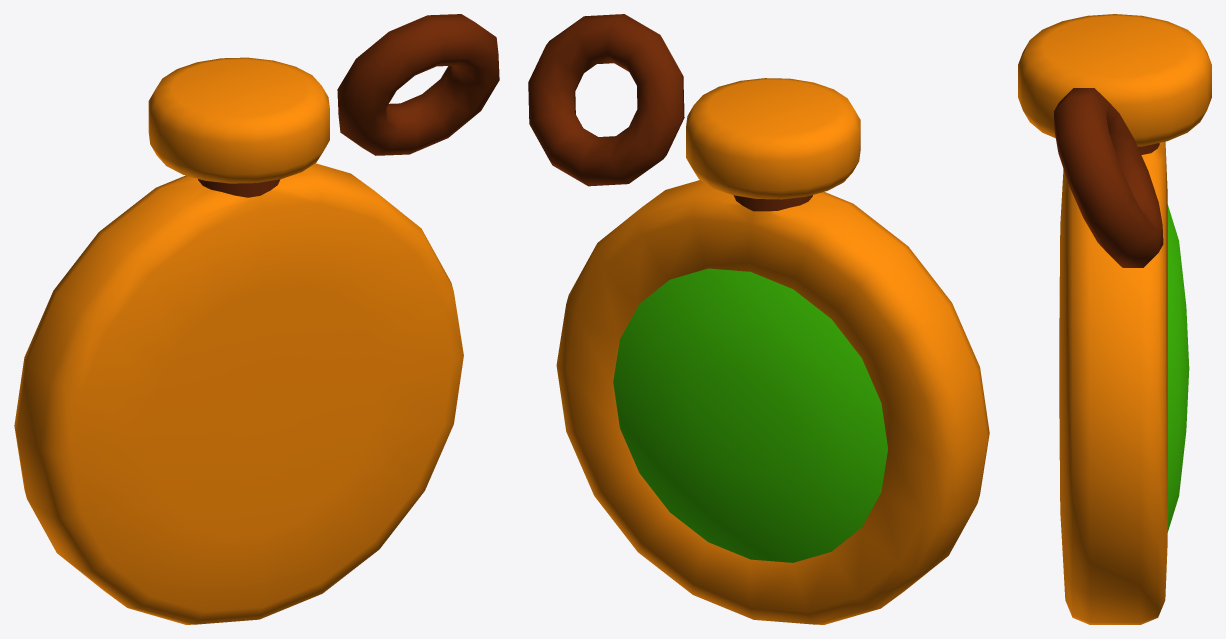
Rendered from Timer.fbx.
3 renders of one model, left to right at view 1: azimuth 30°, elevation 25°; view 2: azimuth 150°, elevation 25°; view 3: azimuth 270°, elevation 25°, orthographic. The views are drawn at different scales.
Visible parts, largest first — view 1: Cylinder, Torus; view 2: Cylinder, Torus; view 3: Cylinder, Torus.
Boxes of the visible parts, x1,y1,x2,y2 form: Cylinder: (14, 57, 463, 624); Torus: (337, 14, 499, 155); Cylinder: (556, 78, 989, 624); Torus: (528, 14, 684, 186); Cylinder: (1018, 14, 1211, 624); Torus: (1054, 88, 1163, 267).
Size of the model in its own units: 221 by 255 by 75.
